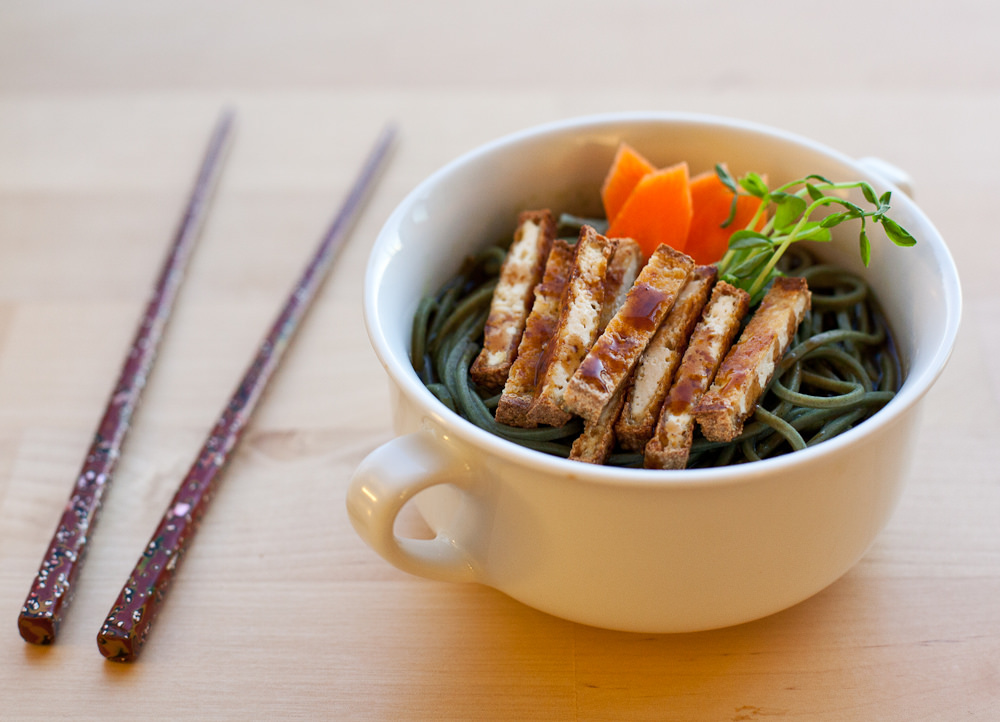Soba: (790, 252, 914, 491)
